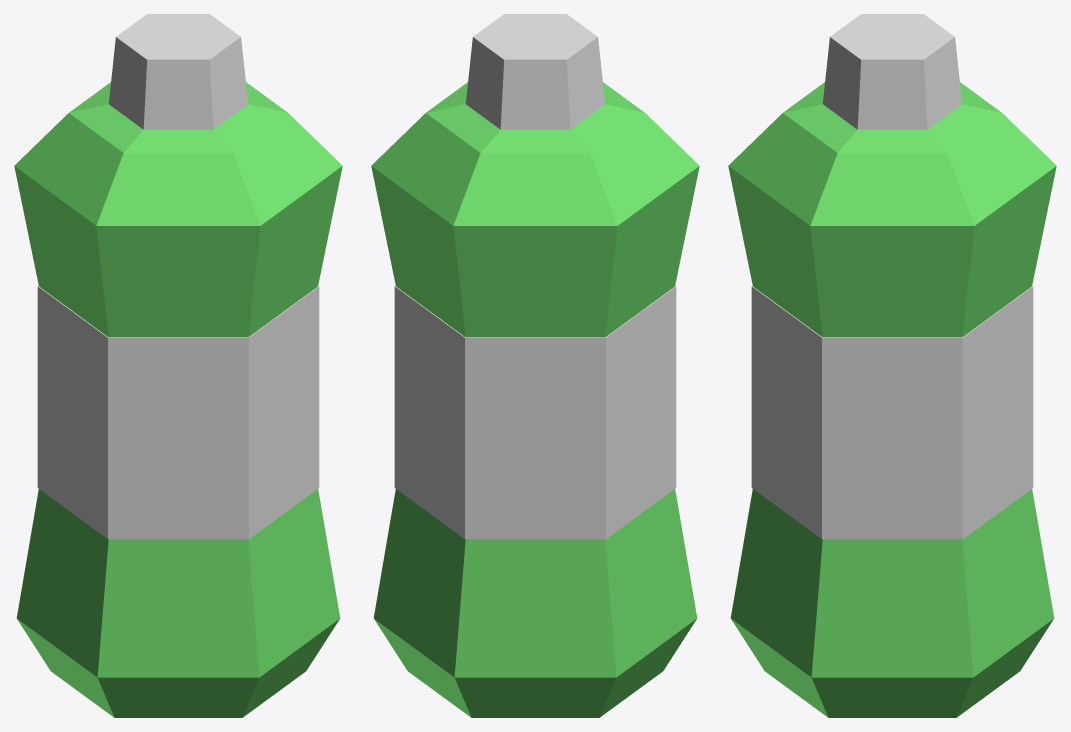
Rendered from juice2.fbx.
3 renders of one model, left to right at view 1: azimuth 30°, elevation 25°; view 2: azimuth 150°, elevation 25°; view 3: azimuth 270°, elevation 25°, orthographic.
Parts seen in each view (by area): view 1: Cylinder, Info; view 2: Cylinder, Info; view 3: Cylinder, Info.
Boxes of the visible parts, x1,y1,x2,y2 form: Cylinder: (14,14,342,717); Info: (37,286,319,539); Cylinder: (371,14,699,717); Info: (394,286,676,539); Cylinder: (728,14,1056,717); Info: (751,286,1033,539).
Bounding box in the file's own units: 10.54 × 25.92 × 12.17.
